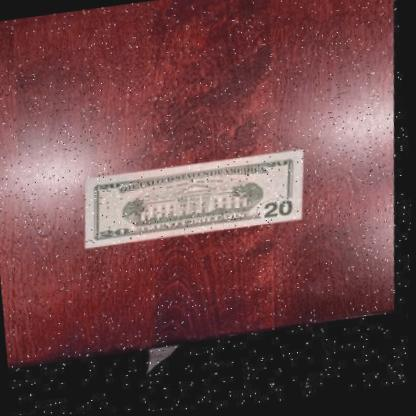dollar_back: (83, 150, 314, 249)
